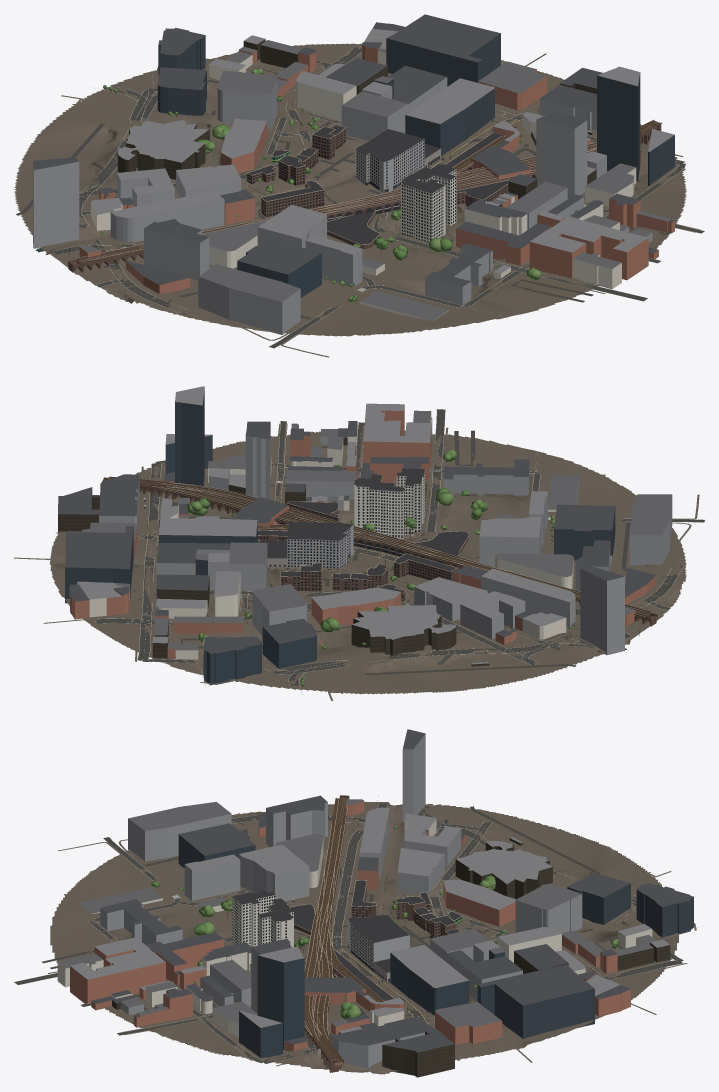
The model's file is barclay_surroundings_detail_mobile.glb.
3 renders of one model, top to bottom at view 1: azimuth 30°, elevation 25°; view 2: azimuth 150°, elevation 25°; view 3: azimuth 270°, elevation 25°, orthographic. The views are drawn at different scales.
Visible parts, largest first — view 1: Terrain_EA_DTM, bldg_100646647, bldg_31182346, bldg_31178728, bldg_31183325, SURR_bldg_100646631, bldg_100646629, road_4721472, bldg_31183352, SURR_bldg_647385655, SURR_trees_crowns, SURR_bldg_204921679 (+2 smaller); view 2: Terrain_EA_DTM, bldg_31182346, bldg_100646647, bldg_31183325, bldg_31178728, SURR_bldg_100646631, bldg_100646629, road_4721472, bldg_31183352, SURR_bldg_647385655, viaduct_31178960_deck, SURR_trees_crowns (+2 smaller); view 3: Terrain_EA_DTM, bldg_31178728, bldg_100646647, bldg_31182346, bldg_31183325, bldg_100646629, SURR_bldg_100646631, road_4721472, bldg_31183352, viaduct_31178960_deck, SURR_bldg_647385655, SURR_trees_crowns (+2 smaller).
Boxes of the visible parts, x1,y1,x2,y2 form: Terrain_EA_DTM: (14,43,700,357); bldg_100646647: (33,77,652,334); bldg_31182346: (91,28,674,320); bldg_31178728: (79,40,674,320); bldg_31183325: (33,14,674,286); SURR_bldg_100646631: (68,119,661,272); bldg_100646629: (157,28,674,297); road_4721472: (16,47,704,348); bldg_31183352: (117,39,596,207); SURR_bldg_647385655: (401,167,456,242); SURR_trees_crowns: (92,68,541,302); SURR_bldg_204921679: (356,139,424,193); Terrain_EA_DTM: (14,423,699,700); bldg_31182346: (77,386,611,664); bldg_100646647: (99,431,672,655); bldg_31183325: (58,421,655,653); bldg_31178728: (69,404,672,659); SURR_bldg_100646631: (101,468,657,626); bldg_100646629: (65,388,615,685); road_4721472: (96,409,704,685); bldg_31183352: (58,438,489,666); SURR_bldg_647385655: (354,468,424,538); viaduct_31178960_deck: (102,478,650,617); SURR_trees_crowns: (157,449,574,650); Terrain_EA_DTM: (48,802,696,1074); bldg_31178728: (58,799,656,1050); bldg_100646647: (100,734,582,1068); bldg_31182346: (57,807,669,1057); bldg_31183325: (91,729,693,1052); bldg_100646629: (178,834,693,1057); SURR_bldg_100646631: (232,795,462,1072); road_4721472: (14,803,683,1063); bldg_31183352: (112,838,670,1077); viaduct_31178960_deck: (304,798,383,1062); SURR_bldg_647385655: (232,895,293,947); SURR_trees_crowns: (128,826,619,1019).
Bounding box in the file's own units: 610 × 97.78 × 657.
Materials: 40 (6 with a texture image).
